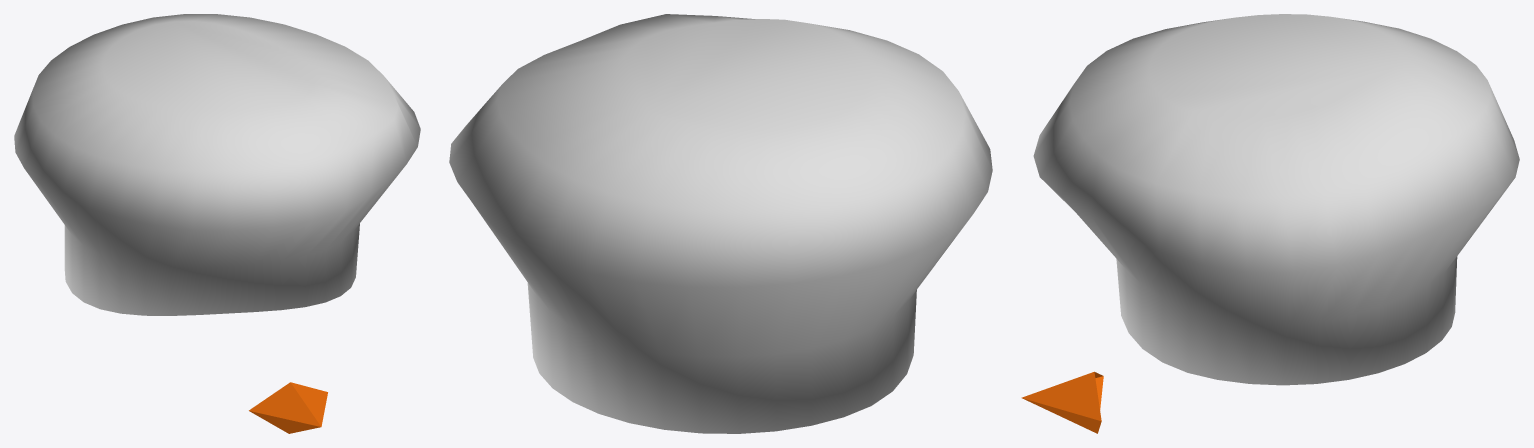
File: hat.fbx
3 views of the same model, side by side, from view 1: azimuth 30°, elevation 25°; view 2: azimuth 150°, elevation 25°; view 3: azimuth 270°, elevation 25° (orthographic). The views are drawn at different scales.
Parts seen in each view (by area): view 1: Cylinder; view 2: Cylinder; view 3: Cylinder.
Boxes of the visible parts, box(x1,y1,x2,y2) form: Cylinder: box(14, 14, 420, 433); Cylinder: box(449, 14, 992, 433); Cylinder: box(1021, 14, 1519, 433).
Size of the model in its own units: 287 by 240 by 290.
